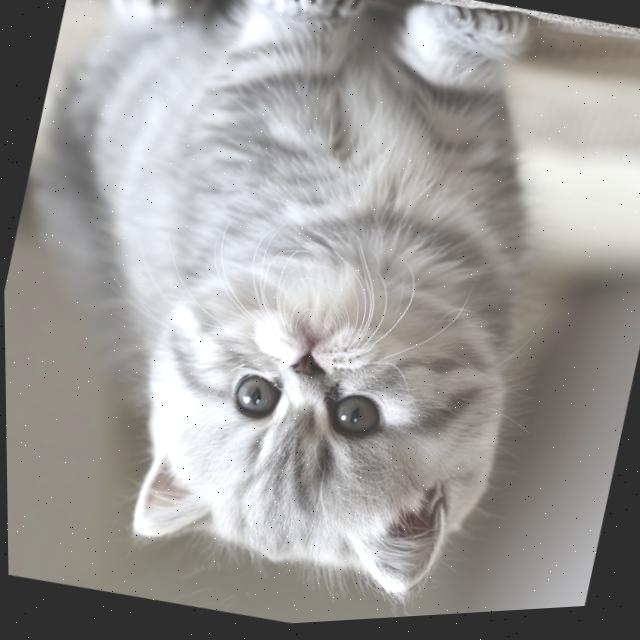Munchkin: (0, 0, 604, 640)
